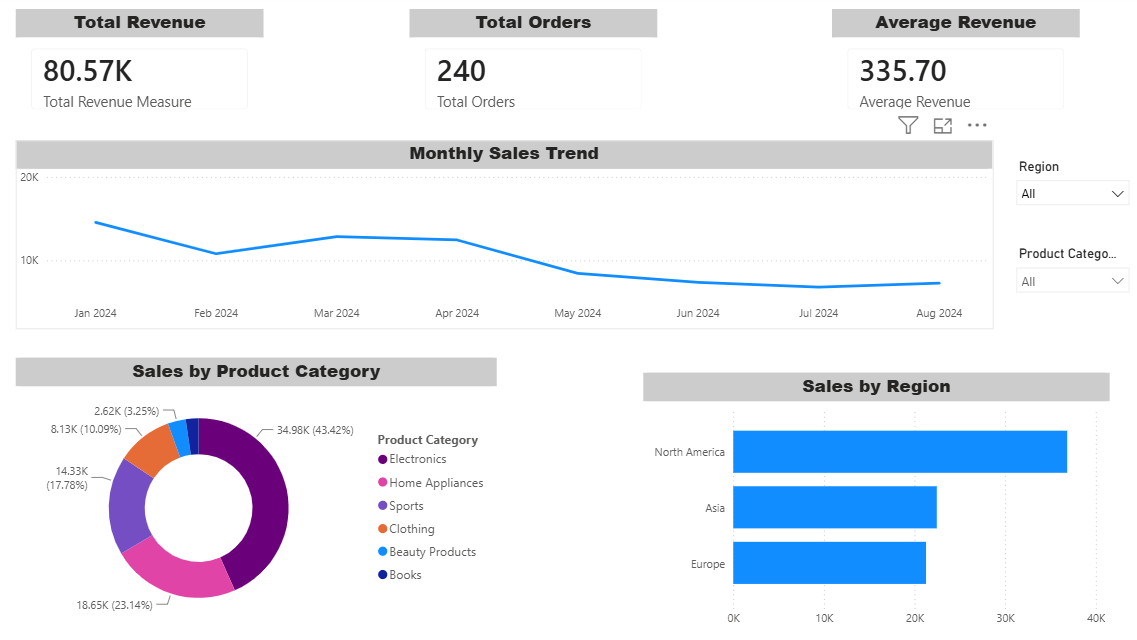

This screenshot's page, from the dashboard's own definition file:
{"tool":"powerbi","page":{"name":"Page 1","canvas":[1280,720],"ordinal":0},"visuals":[{"type":"cardVisual","title":"Total Revenue","fields":{"Data":["Sum(Online Sales Data.Total Revenue)"]},"box":[32,16,272,128],"z":0},{"type":"cardVisual","title":"Average Revenue","fields":{"Data":["Online Sales Data.Average Revenue"]},"box":[800,16,272,128],"z":1000},{"type":"cardVisual","title":"Total Orders","fields":{"Data":["Online Sales Data.Total Orders"]},"box":[416,16,272,128],"z":2000},{"type":"lineChart","fields":{"Category":["Online Sales Data.Month-Year"],"Y":["Sum(Online Sales Data.Total Revenue)"]},"box":[32,160,1072,208],"z":3000},{"type":"barChart","fields":{"Y":["Sum(Online Sales Data.Total Revenue)"],"Category":["Online Sales Data.Region"]},"box":[720,416,512,288],"z":3001},{"type":"donutChart","fields":{"Category":["Online Sales Data.Product Category"],"Y":["Sum(Online Sales Data.Total Revenue)"]},"box":[32,400,528,304],"z":3002},{"type":"slicer","fields":{"Values":["Online Sales Data.Product Category"]},"box":[1120,272,144,64],"z":3004},{"type":"slicer","fields":{"Values":["Online Sales Data.Region"]},"box":[1120,176,144,64],"z":3005}]}

Visuals, with their boxes in screenshot pixels (x1, y1, x2, y2), scaled from the page's 1280x720 canvas onto the 1137x640 screenshot:
"Total Revenue" cardVisual: box(28, 14, 270, 128)
"Average Revenue" cardVisual: box(711, 14, 952, 128)
"Total Orders" cardVisual: box(370, 14, 611, 128)
lineChart - Online Sales Data.Month-Year x Sum(Online Sales Data.Total Revenue): box(28, 142, 981, 327)
barChart - Sum(Online Sales Data.Total Revenue) x Online Sales Data.Region: box(640, 370, 1094, 626)
donutChart - Online Sales Data.Product Category x Sum(Online Sales Data.Total Revenue): box(28, 356, 497, 626)
slicer - Online Sales Data.Product Category: box(995, 242, 1123, 299)
slicer - Online Sales Data.Region: box(995, 156, 1123, 213)
